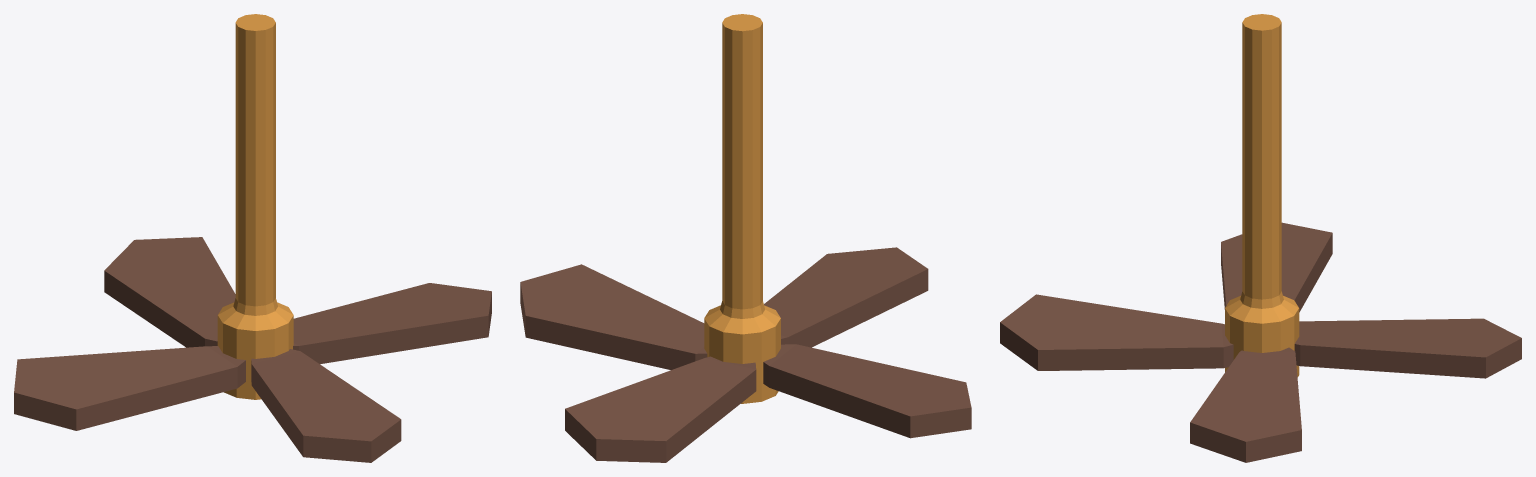
File: ceiling-fan.glb
The picture shows the model from 3 angles, left to right: view 1: azimuth 30°, elevation 25°; view 2: azimuth 150°, elevation 25°; view 3: azimuth 270°, elevation 25°; orthographic projection. The views are drawn at different scales.
Parts seen in each view (by area): view 1: group1703693896, group310976090, group1127159717, group899897112, group286626017; view 2: group1703693896, group1127159717, group286626017, group310976090, group899897112; view 3: group1703693896, group899897112, group286626017, group1127159717, group310976090.
Part boxes in pixels (box(x1,y1,x2,y2)): group1703693896: box(217, 14, 293, 399); group310976090: box(14, 346, 245, 430); group1127159717: box(293, 283, 491, 364); group899897112: box(251, 349, 401, 462); group286626017: box(104, 237, 235, 347); group1703693896: box(704, 14, 780, 403); group1127159717: box(520, 264, 707, 369); group286626017: box(565, 356, 756, 462); group310976090: box(763, 344, 971, 438); group899897112: box(764, 247, 928, 347); group1703693896: box(1225, 14, 1299, 376); group899897112: box(1000, 294, 1233, 370); group286626017: box(1294, 318, 1521, 378); group1127159717: box(1190, 347, 1301, 462); group310976090: box(1221, 222, 1332, 312).
Size of the model in its own units: 0.5621 by 0.42 by 0.5629.
